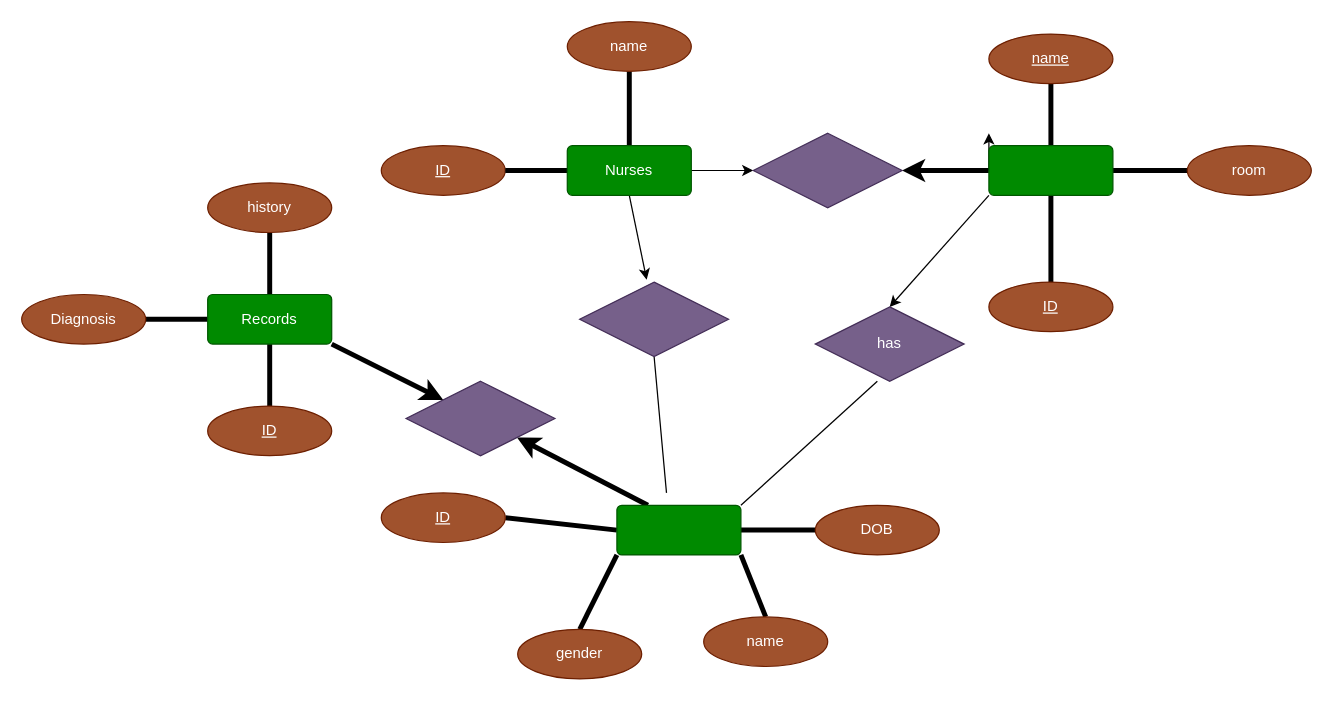
This 1333x701 diagram has some shape labels left out. The box of each missing label's shape, as (x1, y1, x2, y2) in pixels:
belongs to: (405, 380, 555, 456)
ICUs: (988, 144, 1113, 195)
Patients: (616, 504, 741, 555)
takes care of: (578, 281, 728, 356)
works in: (752, 132, 902, 208)
